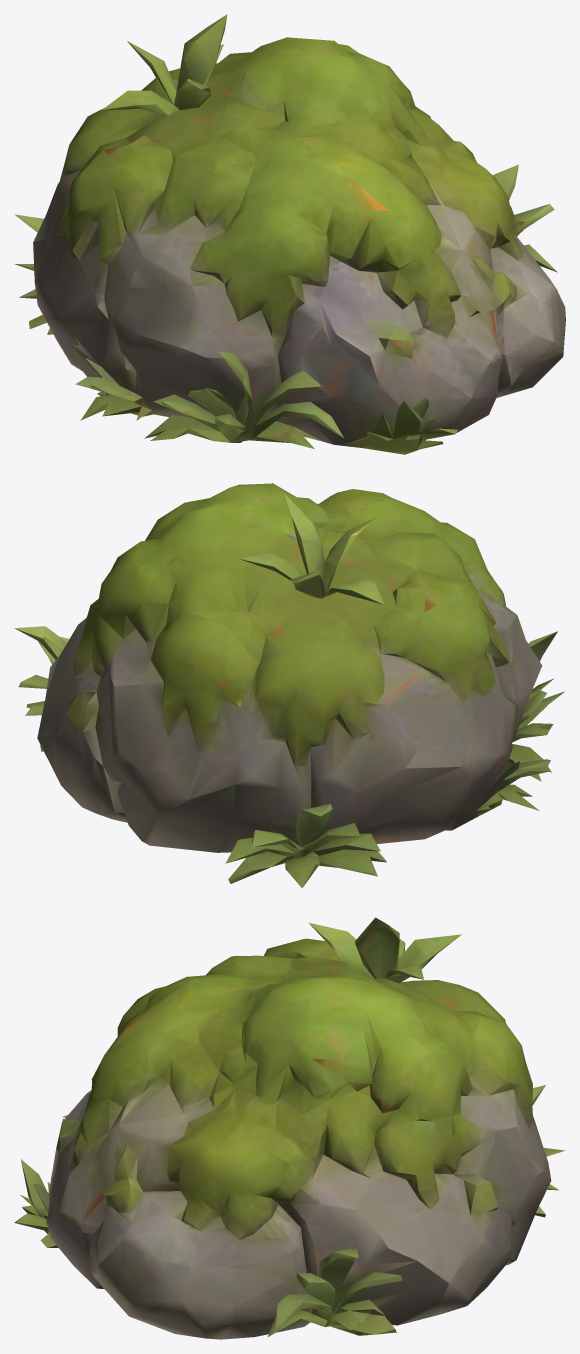
Rendered from roca_musgosa_2500.glb.
3 renders of one model, top to bottom at view 1: azimuth 30°, elevation 25°; view 2: azimuth 150°, elevation 25°; view 3: azimuth 270°, elevation 25°, orthographic. The views are drawn at different scales.
Parts seen in each view (by area): view 1: roca_musgosa_malla; view 2: roca_musgosa_malla; view 3: roca_musgosa_malla.
Part boxes in pixels (<box>): roca_musgosa_malla: <box>14,14,565,454</box>; roca_musgosa_malla: <box>14,483,564,888</box>; roca_musgosa_malla: <box>14,917,565,1339</box>.
Bounding box in the file's own units: 0.4714 × 0.2954 × 0.4613.
1 material, 1 textured.
